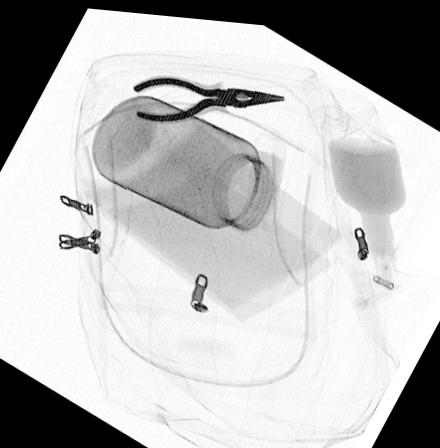Pliers: (130, 72, 287, 121)
